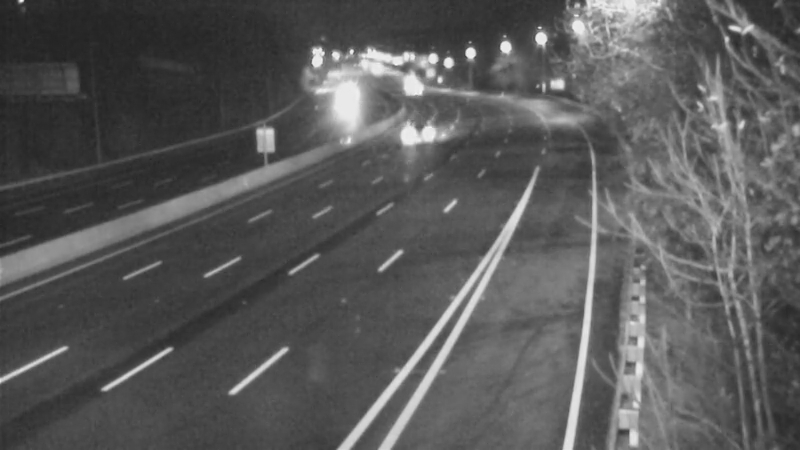vehicle: (401, 111, 451, 161), (318, 72, 368, 122)
